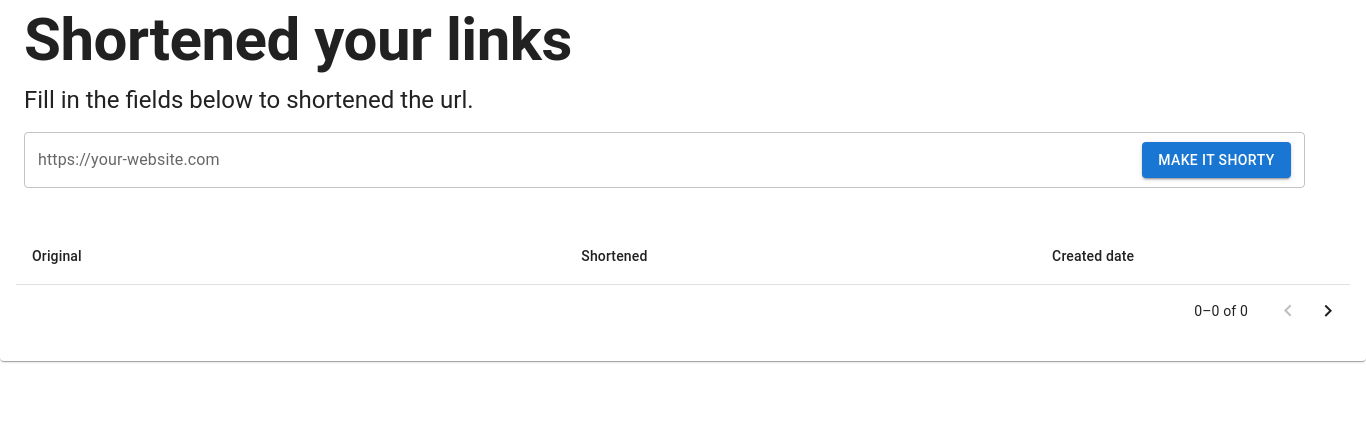
Test: Shorty form › when user submit and input field is empty
The image size is (1366, 436).
Click the button "Make it shorty": {"x": 1216, "y": 160} [1142,142,1291,178]
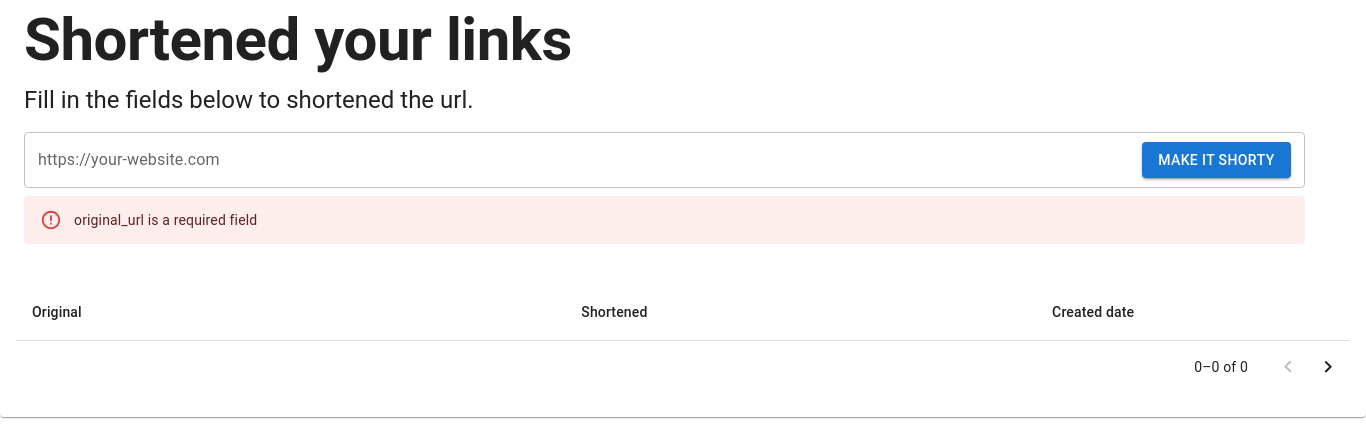
Now the text "original_url is a required field" is shown, box [74,212,257,228]
